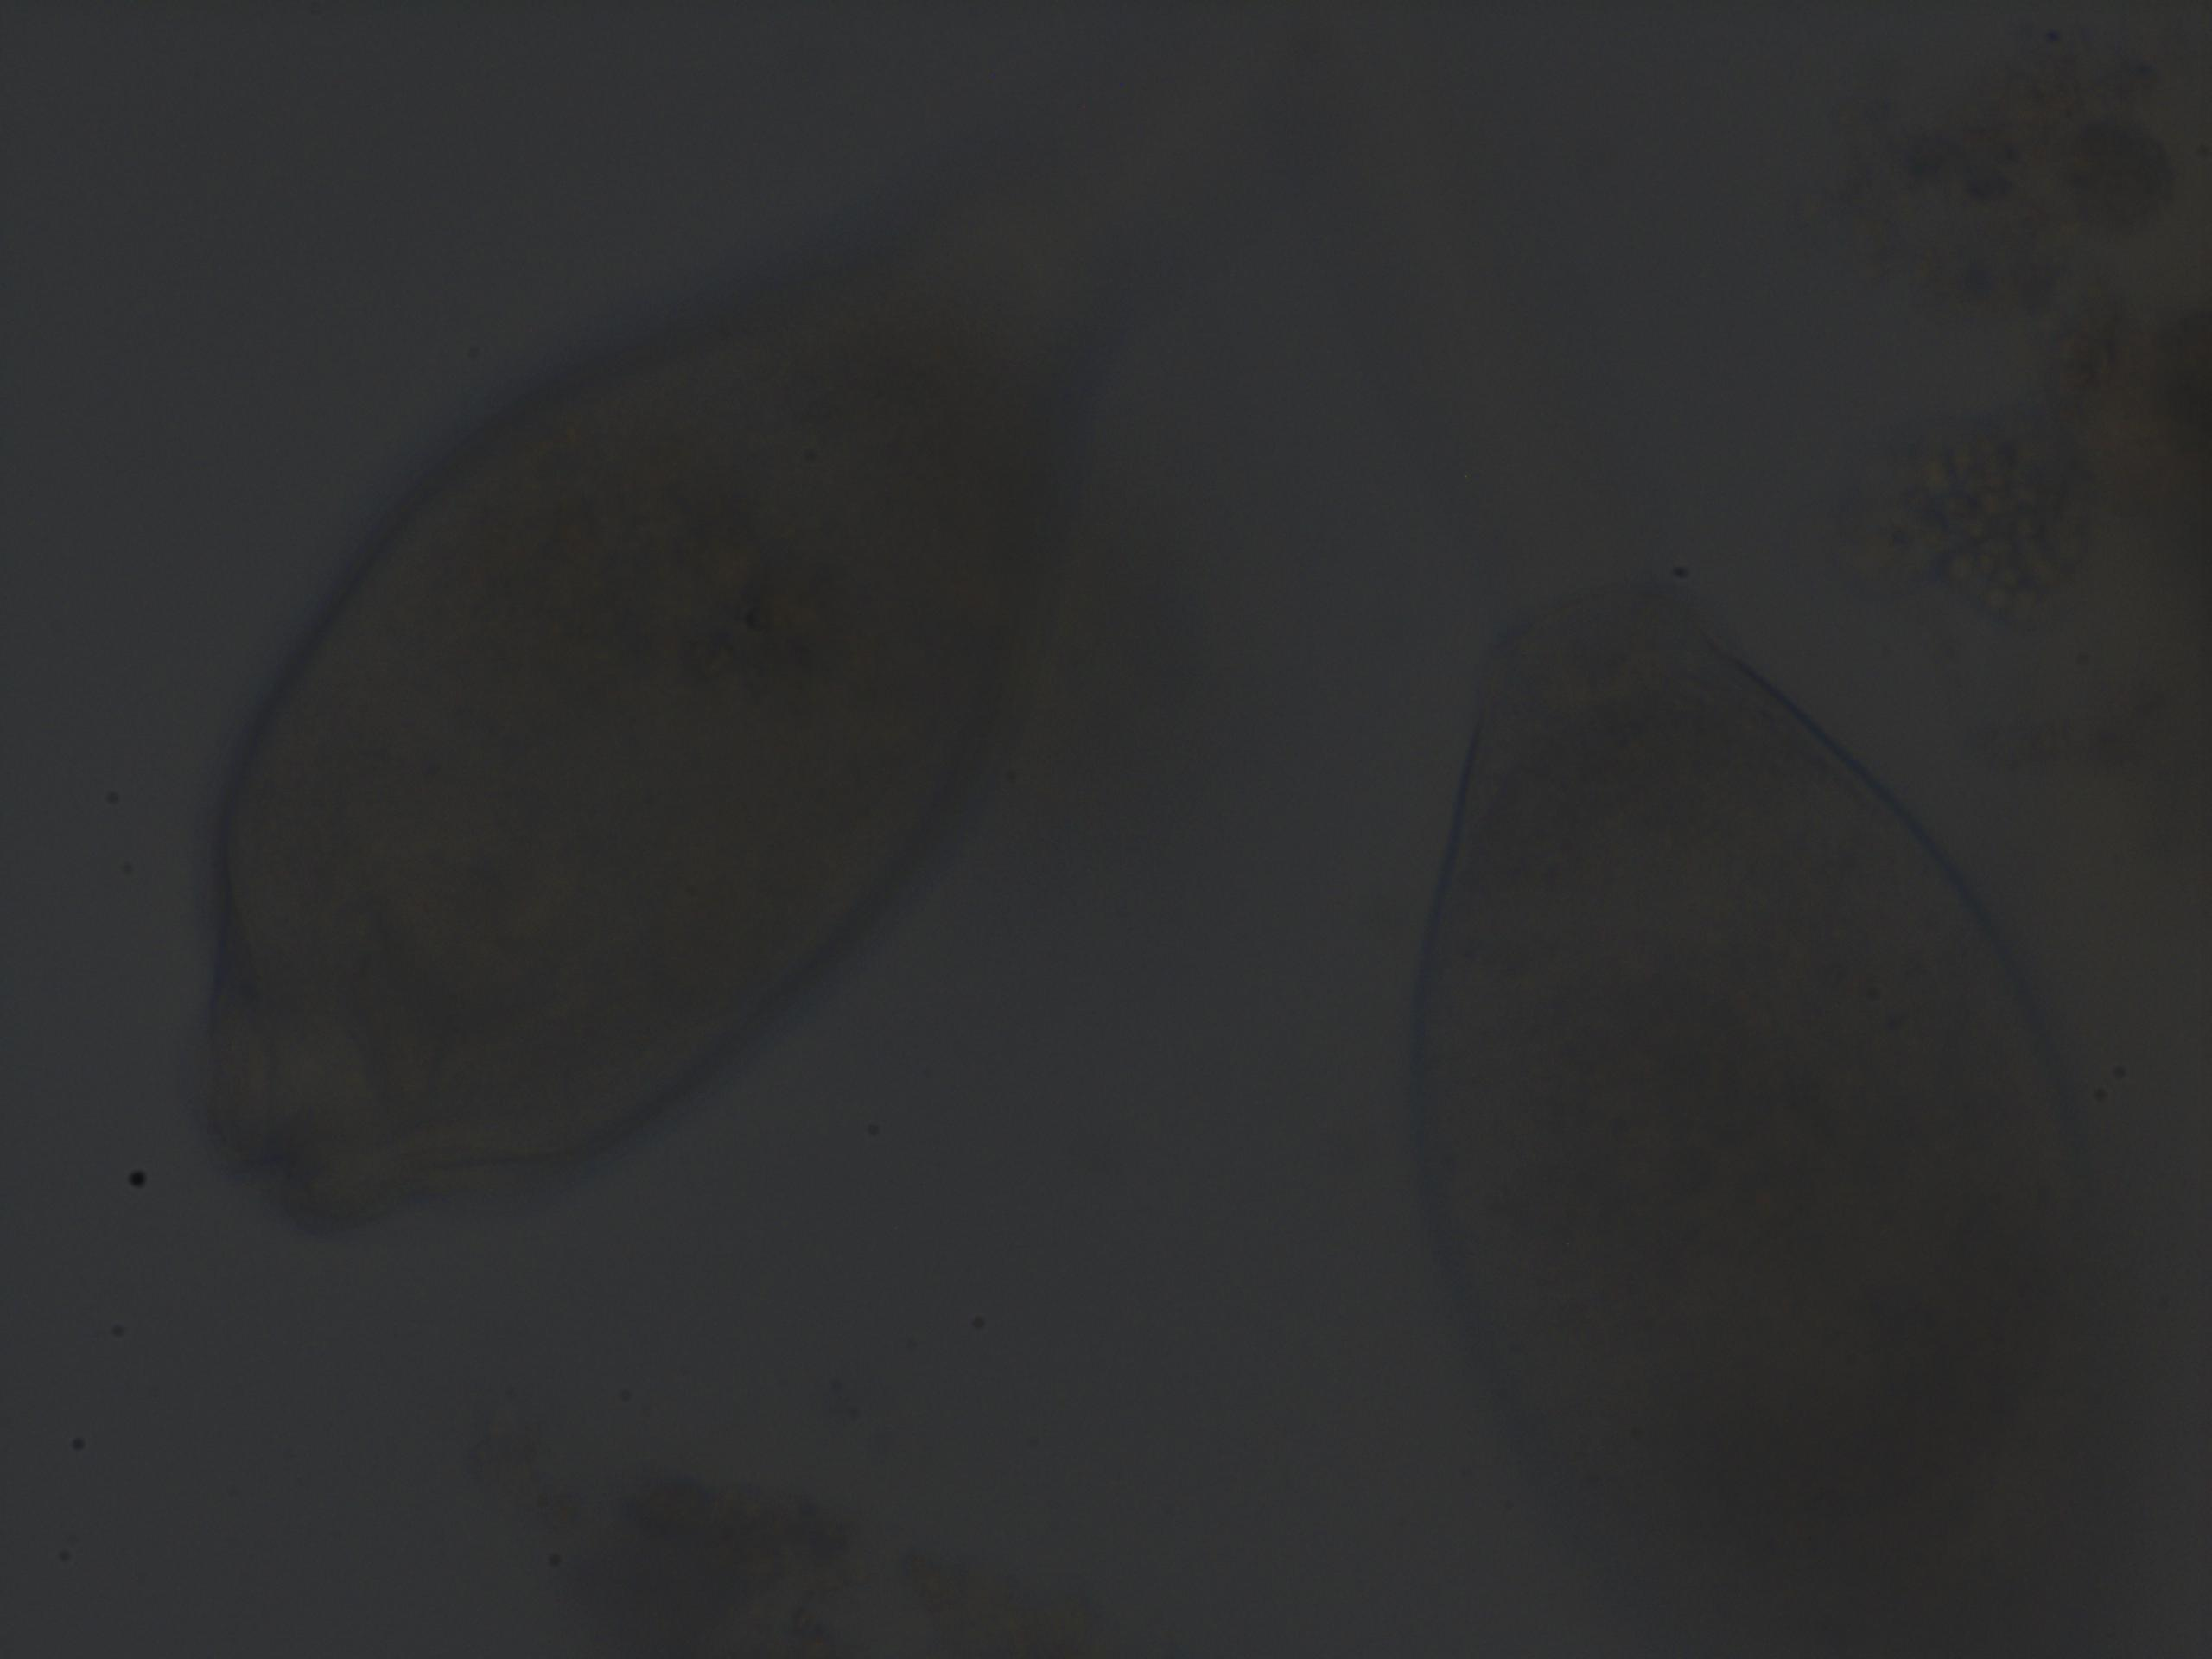protozoa: (1266, 23, 2125, 1659), (176, 14, 1266, 1269)
